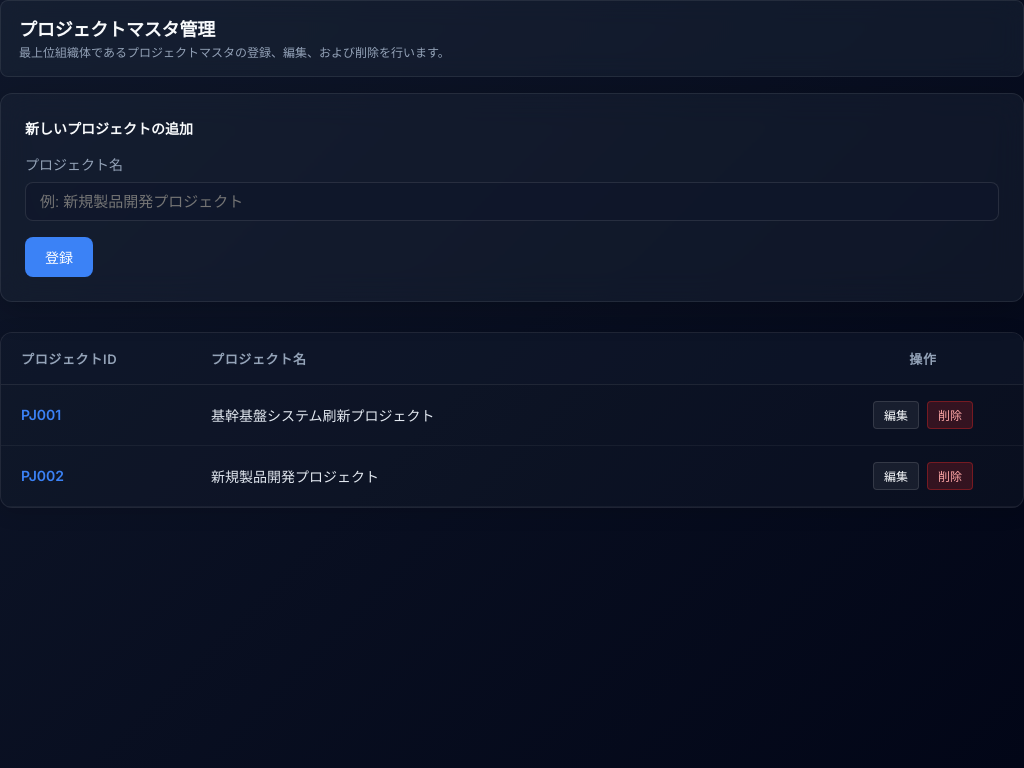
Test: ProjectView (削除操作統合) › 案件が紐づいているプロジェクト (PJ001) の削除を試みると、エラーメッセージが表示され削除されないこと
Expected: the text "基幹基盤システム刷新プロジェクト" is shown, [191,384,823,445]
Click the button named "delete-btn" at {"x": 950, "y": 415}, box [927,401,973,429]
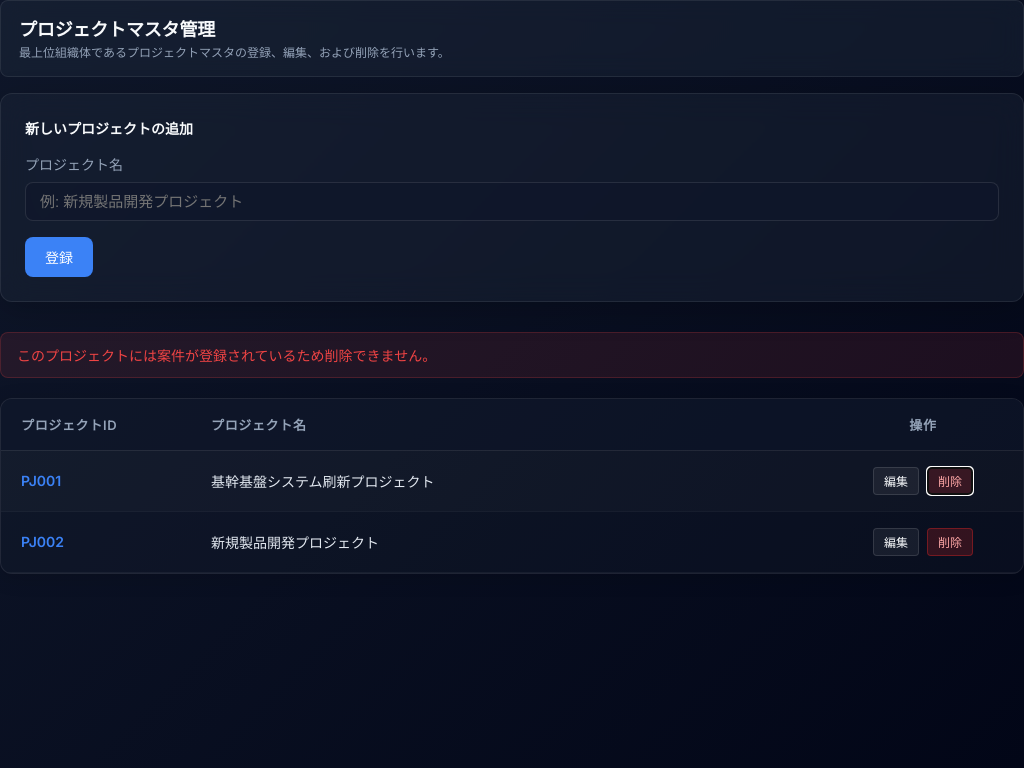
Expected: the text "基幹基盤システム刷新プロジェクト" is shown, [191,450,823,511]
Expected: the message reads "このプロジェクトには案件が登録されているため削除できません。", [17,347,436,364]
